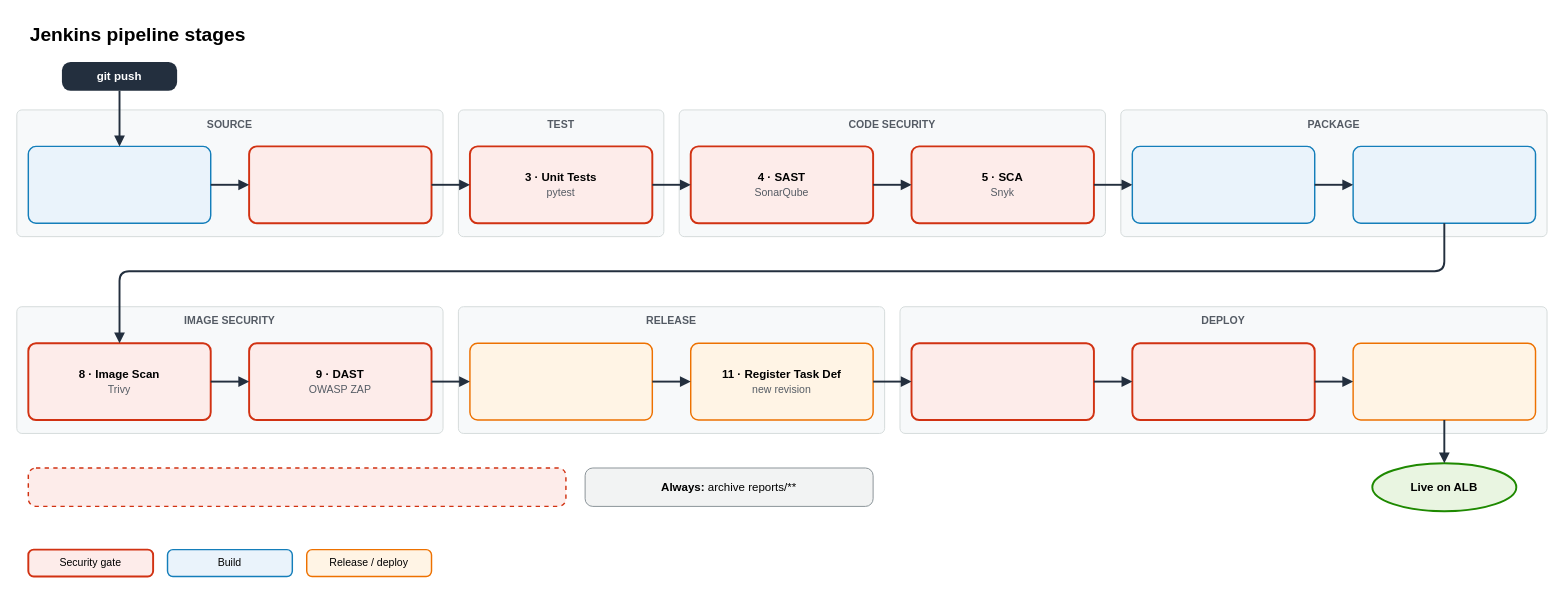
This 1564x593 diagram has some shape labels left out. Here are the shapes that lost their labels. From the top down, the centre of each, then its label:
pixel 119 184: 1 · Checkout git
pixel 340 184: 2 · Secret Scan Gitleaks
pixel 1223 184: 6 · Docker Build docker
pixel 1444 184: 7 · SBOM Syft
pixel 561 381: 10 · Push to ECR immutable tag
pixel 1002 381: 12 · Deploy to ECS rolling update
pixel 1223 381: 13 · Smoke Test /health version
pixel 1444 381: 14 · Cleanup old revisions
pixel 296 487: Any gate fails → build stops, nothing is deployed
